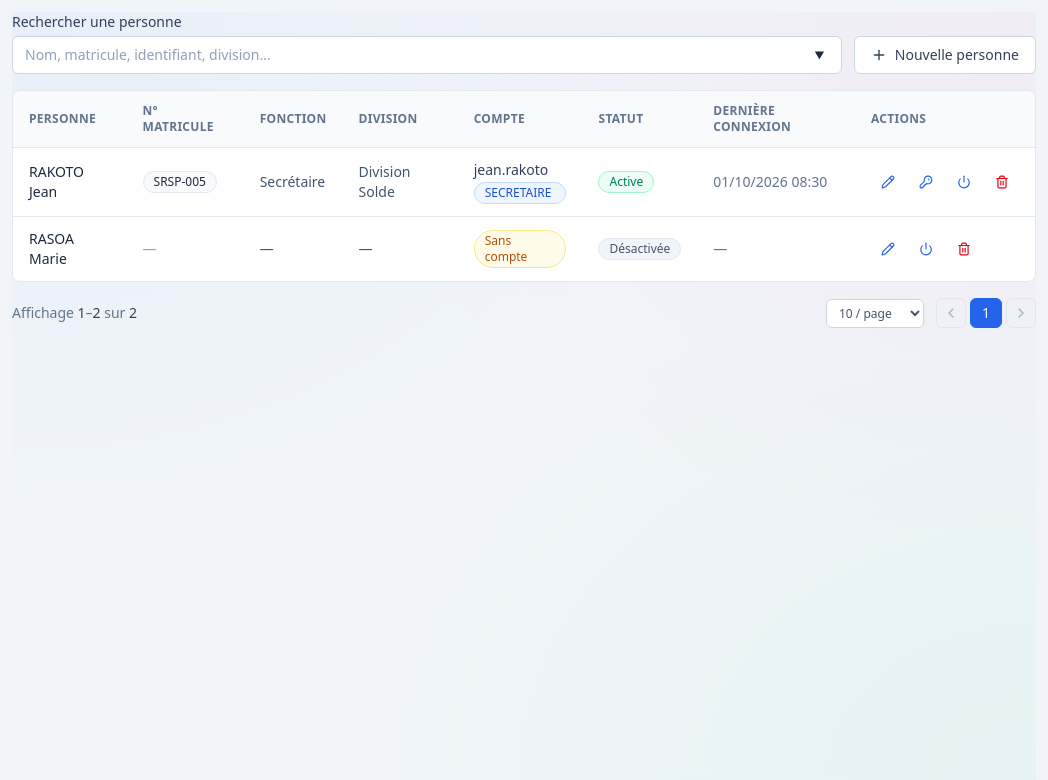
Test: Personnel — la liste › filtre la liste sur la recherche
Expected: the text "RAKOTO Jean" is shown, [29, 162, 84, 201]
In the field labelled "Rechercher une personne": (427, 55) [12, 36, 842, 74], type "rasoa"
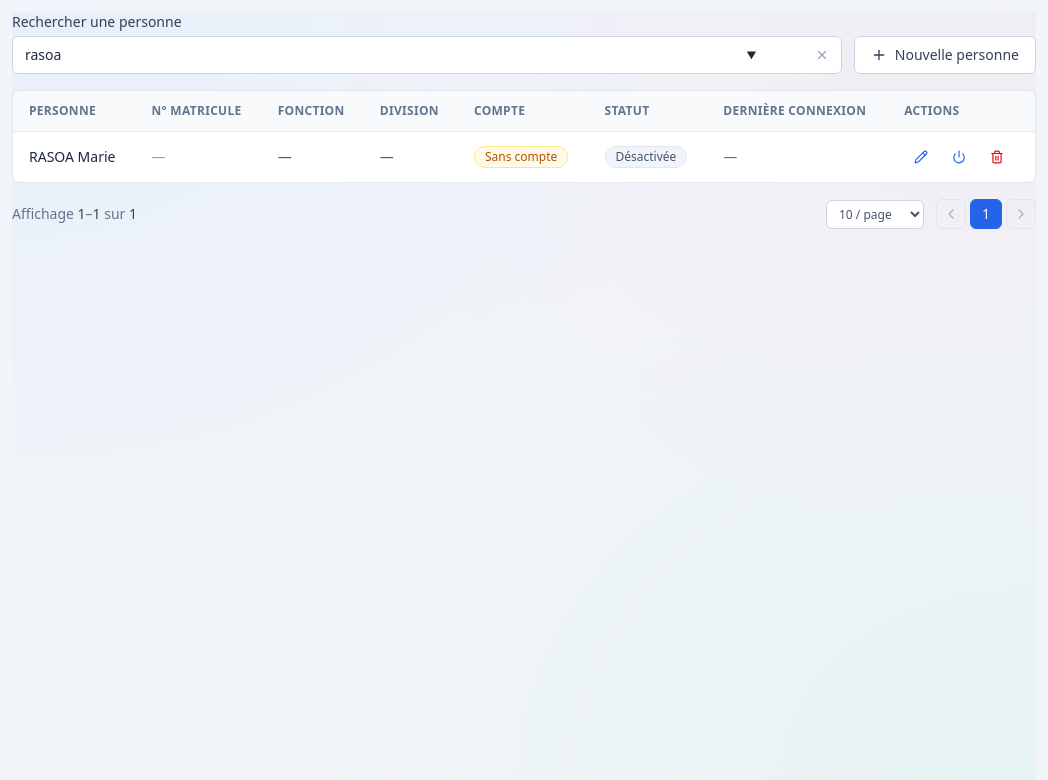
Expected: the text "RASOA Marie" is shown, [29, 147, 115, 166]
Result: the text "RAKOTO Jean" is gone
